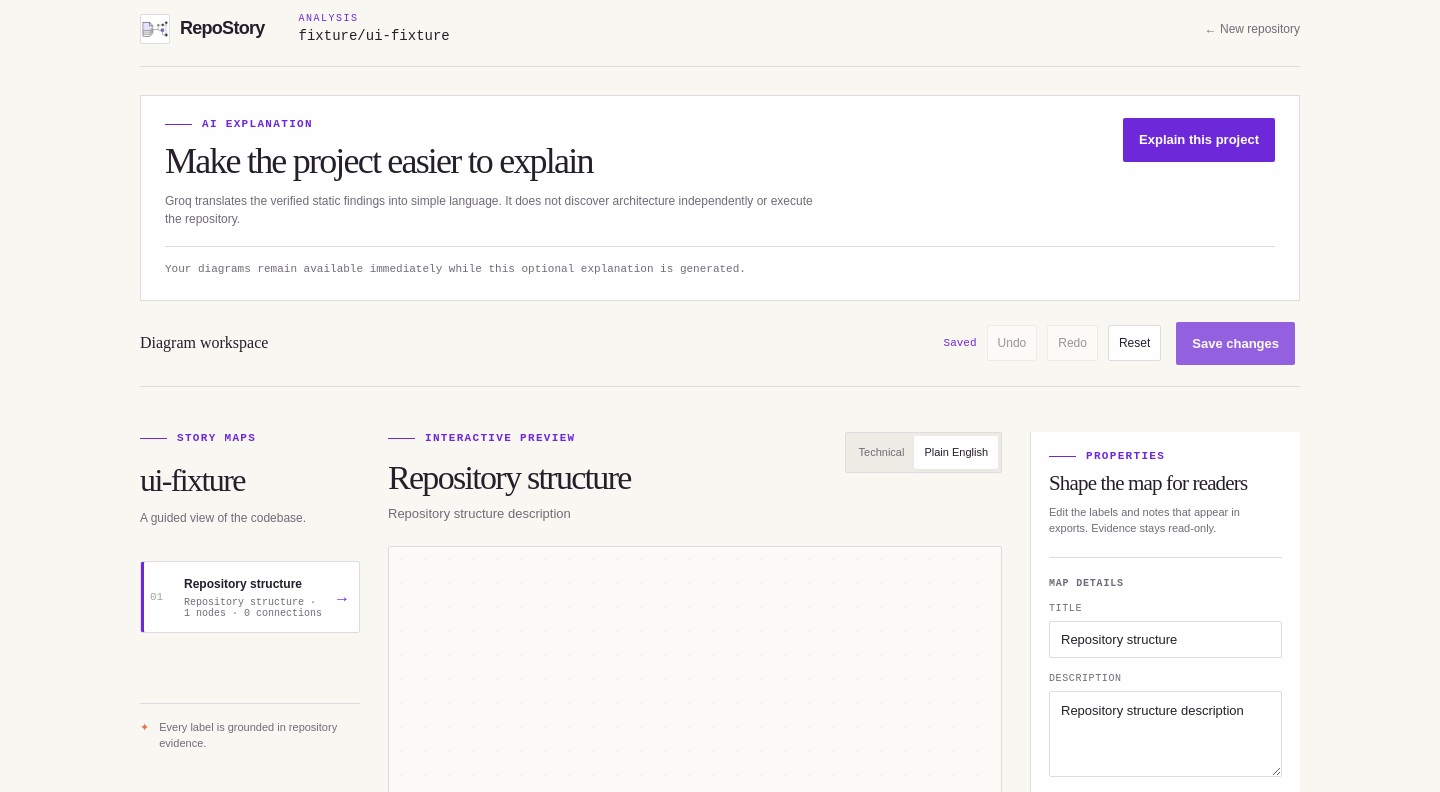
Test: RepoAnalysis diagram navigation › does not copy an export when the draft changes during saving
Expected: the heading "Repository structure" is shown, [388,459,631,497]
Replace the text in the field labelled "Title" with "First draft": (1166, 639) [1049,621,1282,658]
(page scrolled)
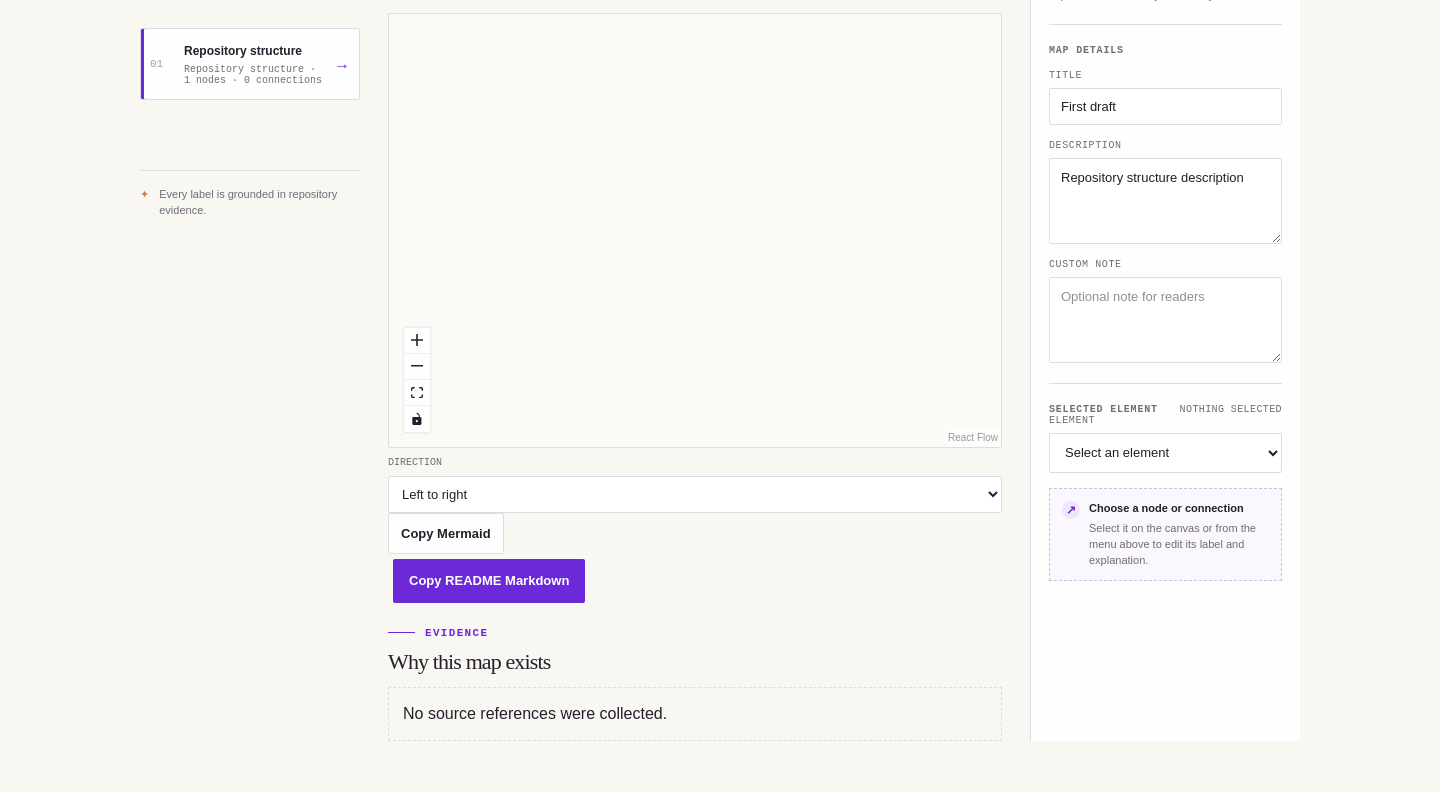
Click the button "Copy README Markdown": (489, 581) [393,559,585,603]
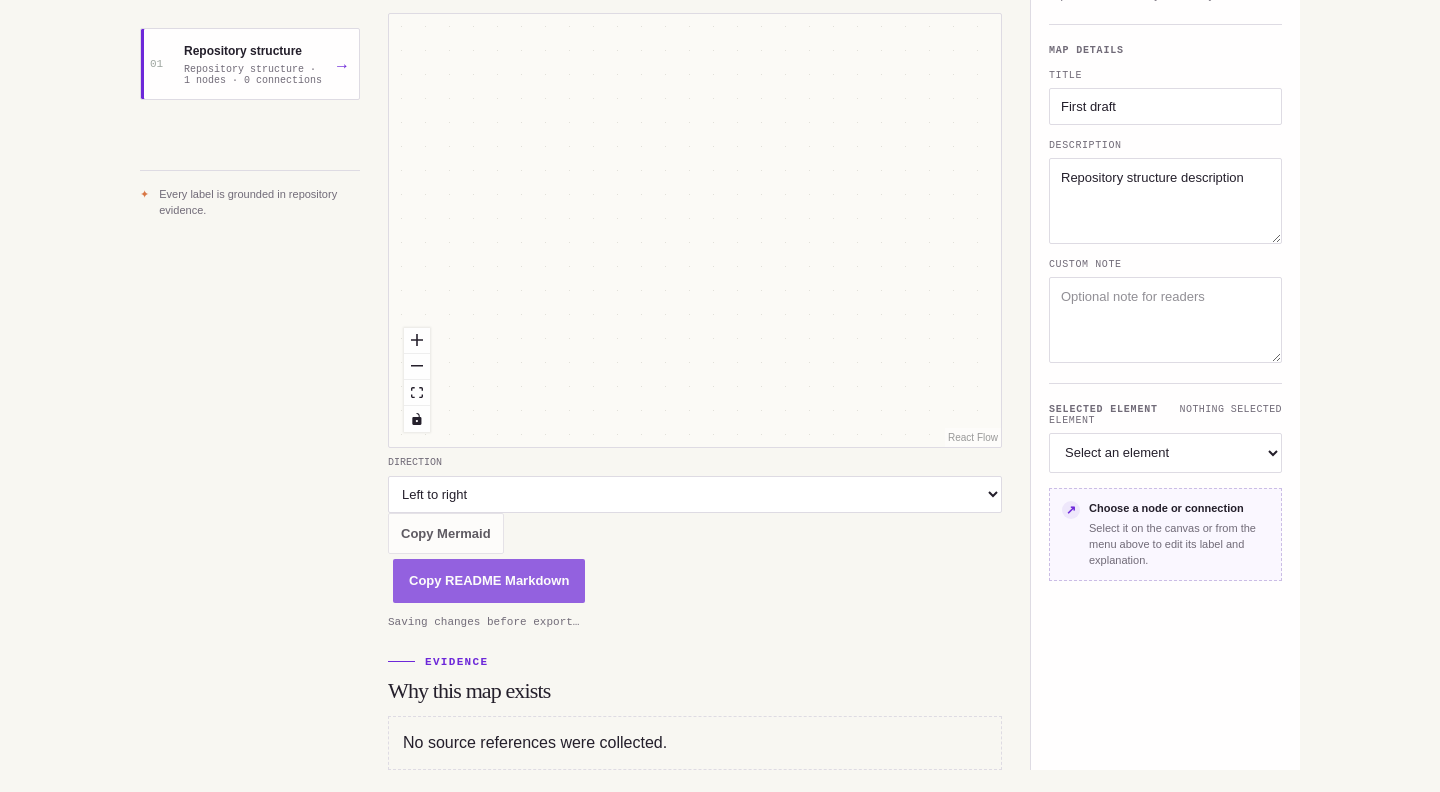
Replace the text in the field labelled "Title" with "Newer draft": (1166, 106) [1049,88,1282,125]
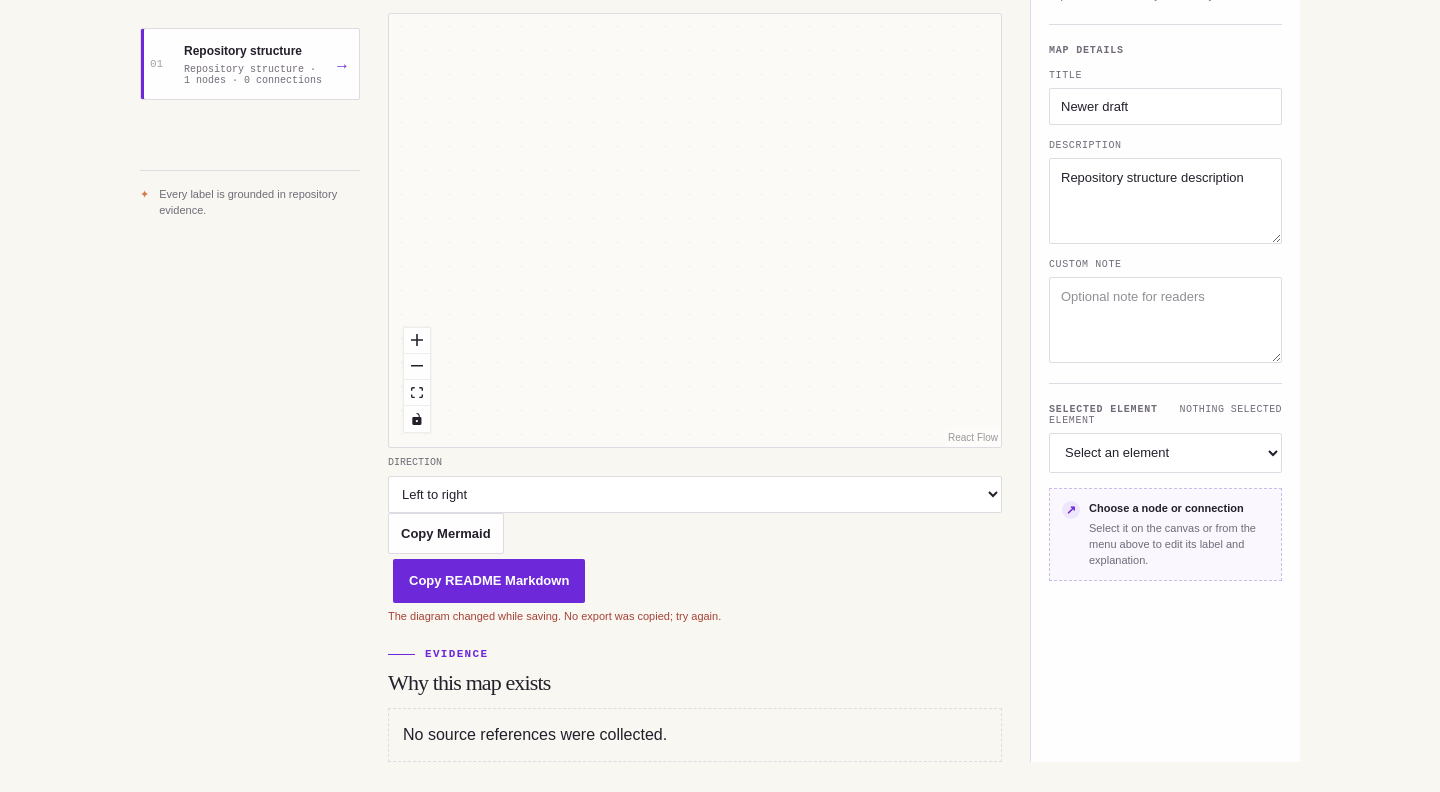
Result: the message shows "changed while saving" at [388,610,721,622]
